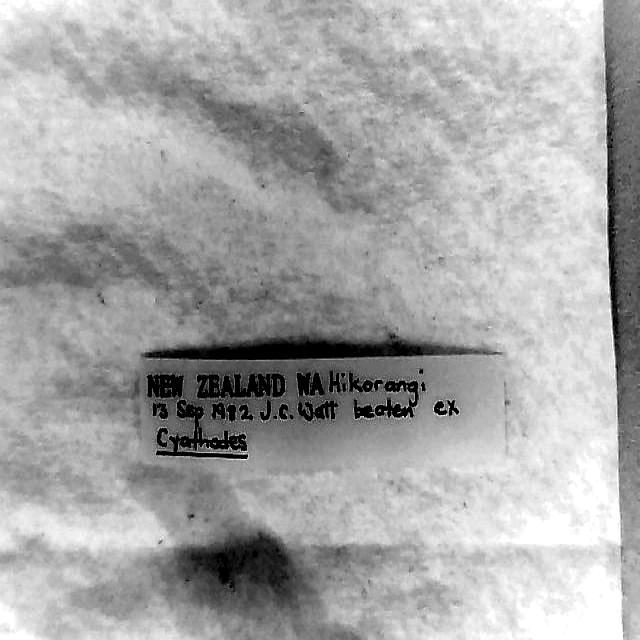mixed_label: (141, 353, 506, 470)
